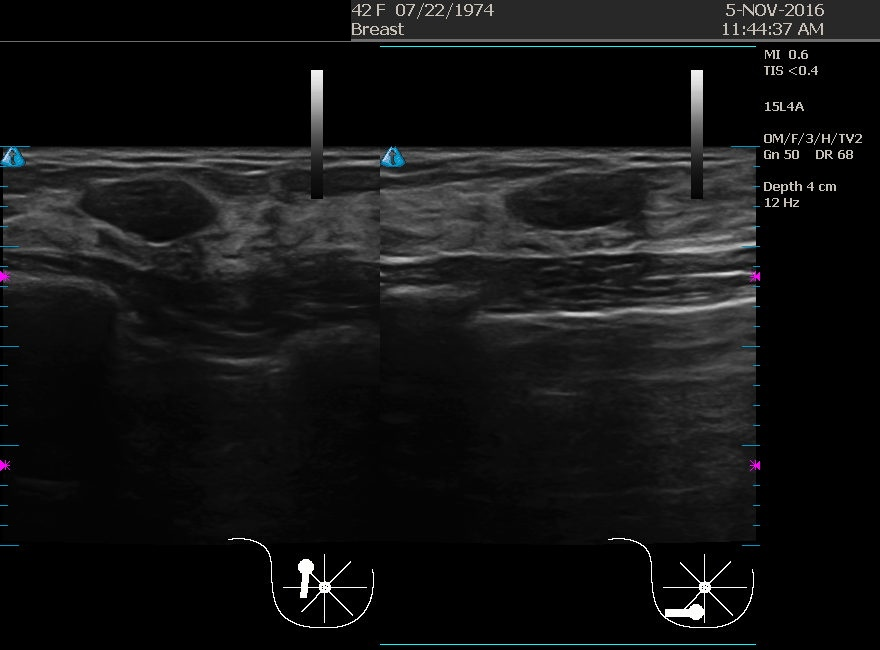Benign: (48, 155, 248, 355), (479, 151, 679, 351)
